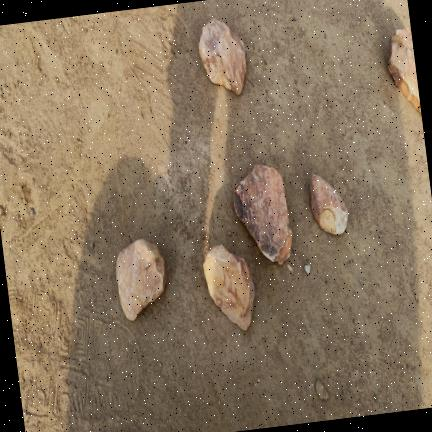Rocks: (233, 165, 291, 264), (203, 245, 253, 330), (115, 240, 165, 321), (198, 19, 245, 94), (387, 28, 420, 113), (309, 174, 347, 234), (315, 380, 327, 400), (304, 264, 310, 275)
